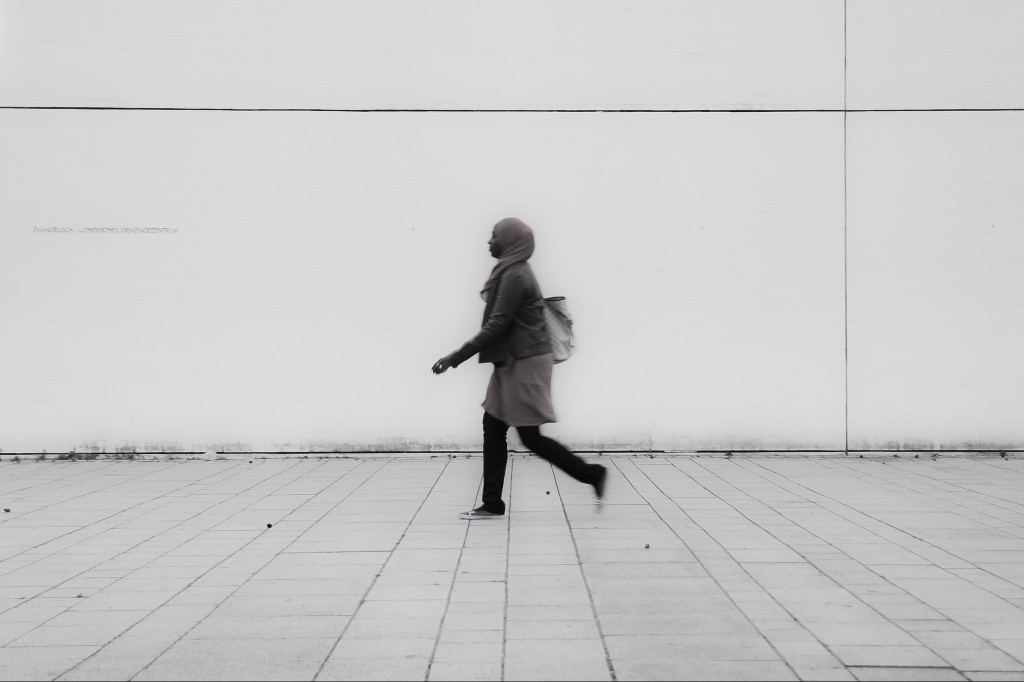NOTSAFE: (469, 214, 551, 374)
